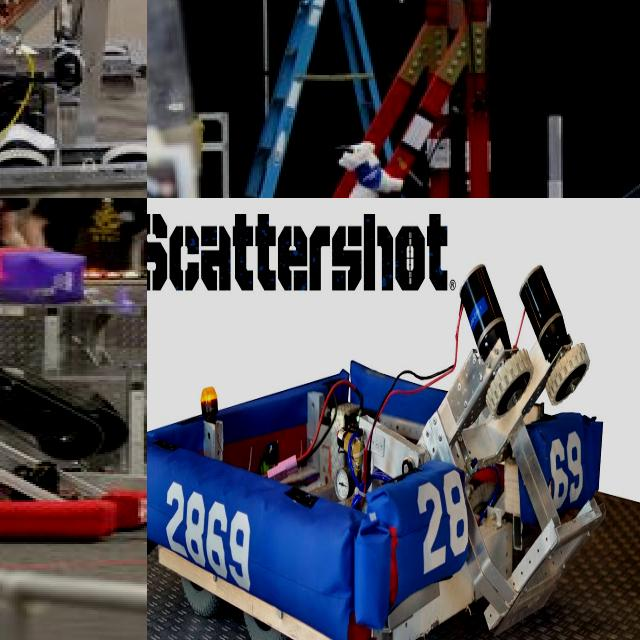FRC-Robots: (147, 248, 618, 640), (147, 0, 640, 198), (0, 348, 147, 568), (0, 0, 147, 198)
